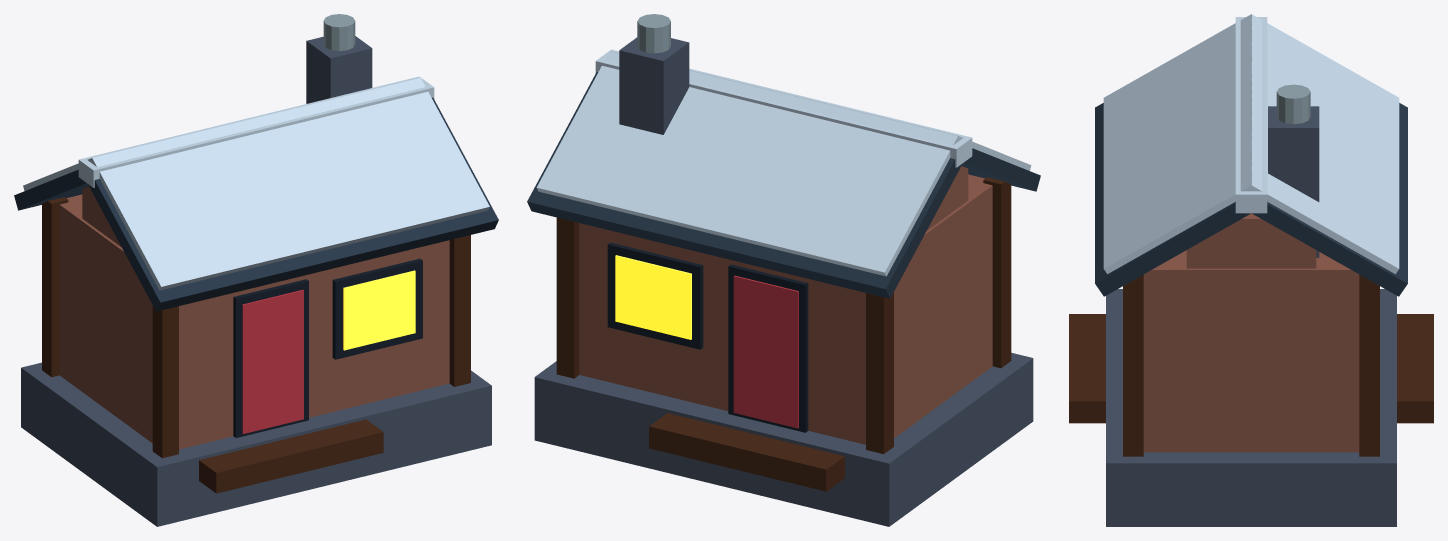
File: research_hut.glb
3 renders of one model, left to right at view 1: azimuth 30°, elevation 25°; view 2: azimuth 150°, elevation 25°; view 3: azimuth 270°, elevation 25°, orthographic. The views are drawn at different scales.
Visible parts, largest first — view 1: research_hut; view 2: research_hut; view 3: research_hut.
Part boxes in pixels (x1,y1,x2,y2): research_hut: [14, 14, 498, 526]; research_hut: [527, 14, 1040, 526]; research_hut: [1069, 14, 1433, 526].
Bounding box in the file's own units: 4.48 × 4.73 × 3.89.
